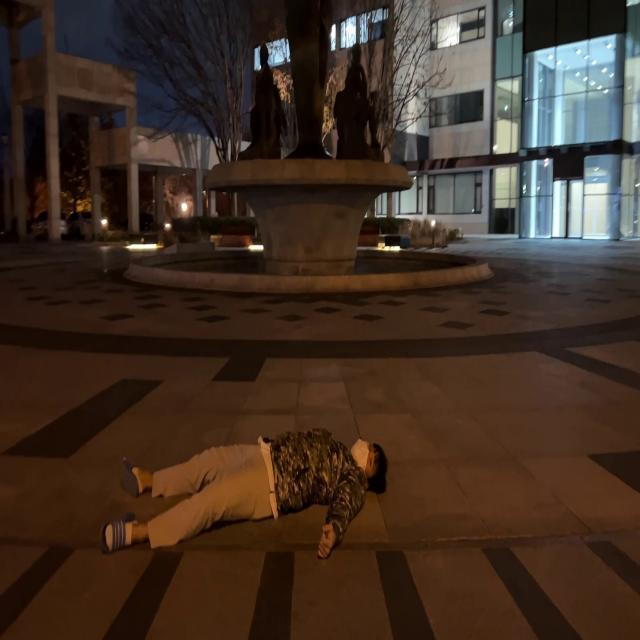Fall: (100, 430, 389, 560)
